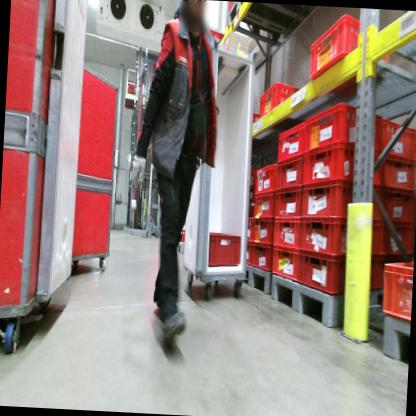pallet: (266, 263, 393, 341), (379, 308, 410, 365), (240, 260, 271, 298)
small_load_carrier: (305, 12, 395, 106), (301, 138, 389, 200), (304, 98, 383, 162), (295, 244, 384, 300), (297, 208, 384, 261), (300, 177, 386, 230), (256, 81, 316, 130), (379, 255, 413, 324), (199, 230, 242, 274), (380, 117, 416, 161), (379, 153, 416, 195), (380, 220, 414, 263), (275, 152, 305, 196), (277, 118, 305, 163), (383, 189, 415, 226), (270, 244, 300, 283), (272, 186, 303, 223), (270, 216, 301, 250), (252, 212, 275, 247), (249, 242, 274, 274), (255, 158, 277, 194), (251, 188, 275, 220), (171, 221, 189, 241), (248, 188, 257, 218), (243, 239, 252, 265), (245, 217, 254, 242), (249, 167, 255, 189), (227, 2, 234, 11)
